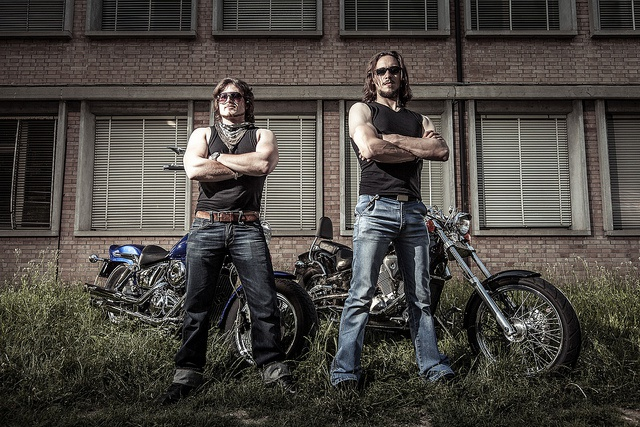non-vehicle: (289, 198, 589, 382), (83, 144, 322, 367)
